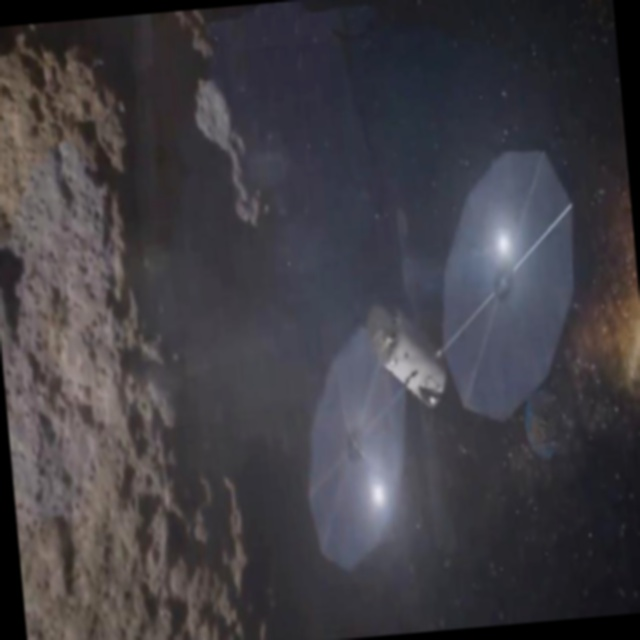large_debris: (0, 0, 415, 640), (185, 52, 285, 244)
satellite: (272, 134, 617, 591)
